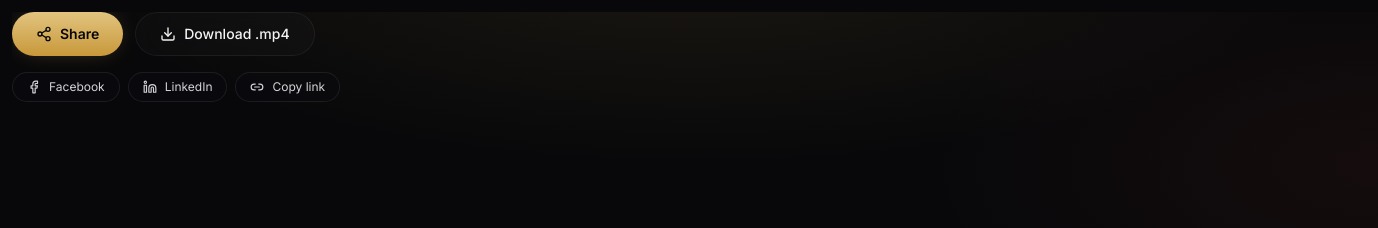
it: <ShareBar /> — Share › guides the user when native share is unsupported
The width and height of the screenshot is (1378, 228).
Click the button "Share": x=68, y=34 [12, 12, 123, 56]
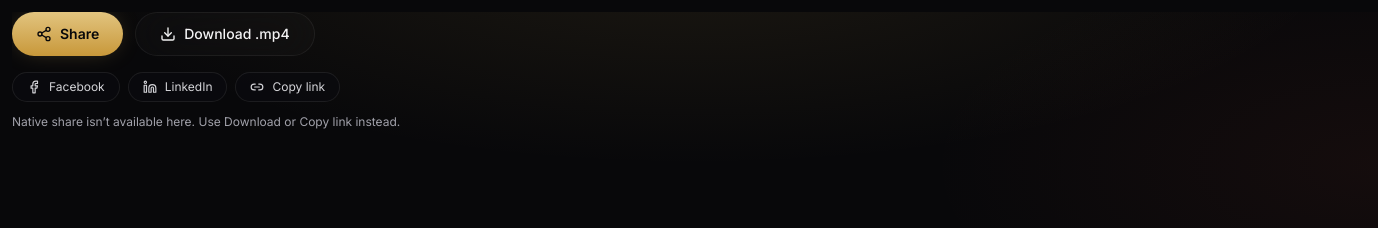
expect the text "Native share isn’t available here. Use Download or Copy link instead." is shown: met, box [12, 114, 400, 129]
